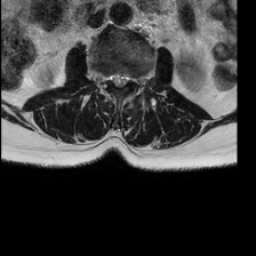CCS_stenosis: (116, 66, 122, 96)
LFS_stenosis: (129, 67, 137, 89)
LLS_stenosis: (122, 66, 129, 92)
RFS_stenosis: (102, 66, 109, 90)
RLS_stenosis: (109, 66, 116, 90)
